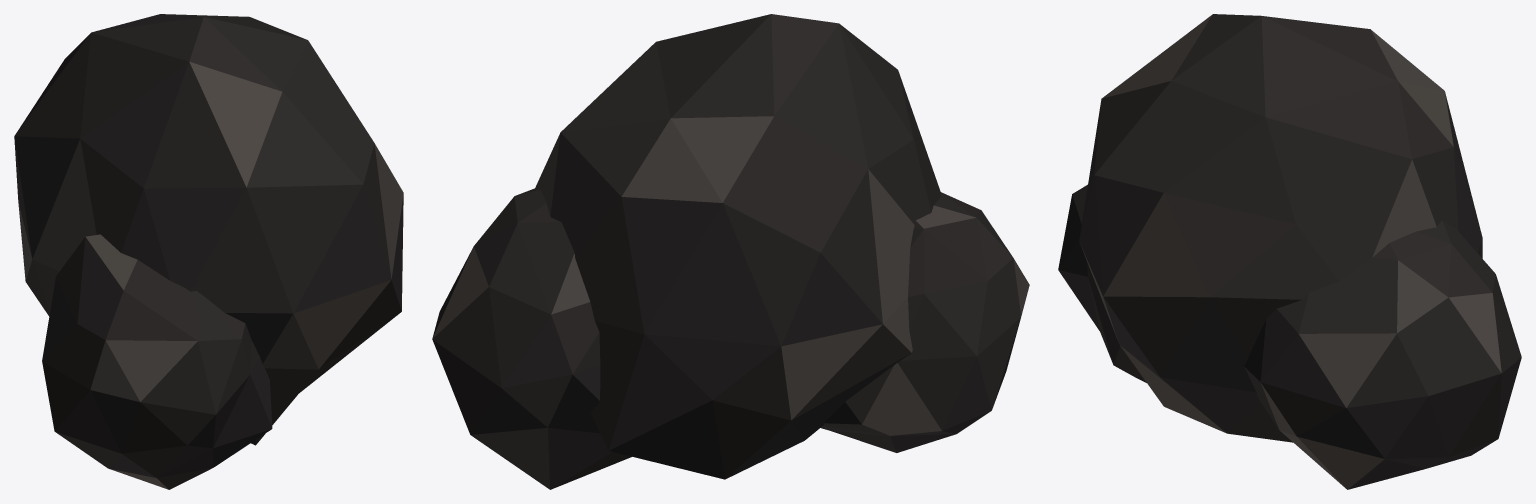
Rendered from MassiveCoal.fbx.
3 renders of one model, left to right at view 1: azimuth 30°, elevation 25°; view 2: azimuth 150°, elevation 25°; view 3: azimuth 270°, elevation 25°, orthographic. The views are drawn at different scales.
Visible parts, largest first — view 1: MassiveCoal; view 2: MassiveCoal; view 3: MassiveCoal.
Boxes of the visible parts, bbox=[...] form: MassiveCoal: bbox=[14, 14, 403, 489]; MassiveCoal: bbox=[432, 14, 1029, 489]; MassiveCoal: bbox=[1058, 14, 1521, 489].
Bounding box in the file's own units: 3 × 3 × 3.
